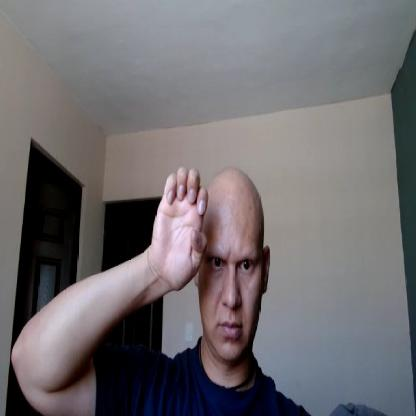E: (152, 166, 208, 294)
